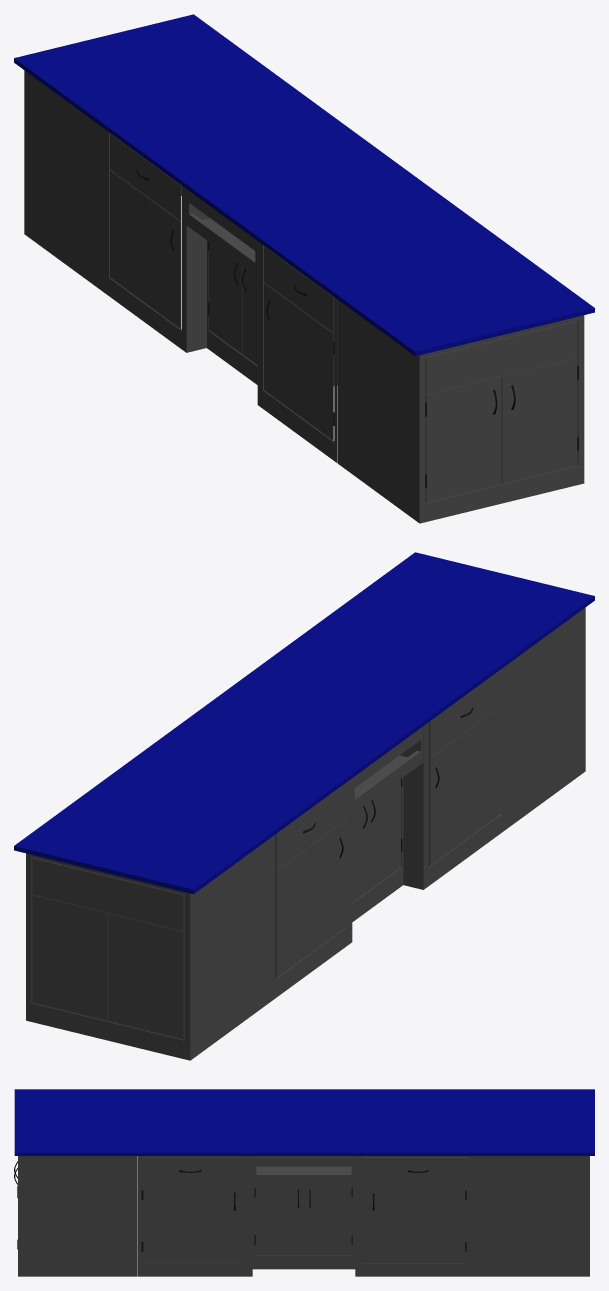
The model's file is Mod_Lab_ZhuoZi.FBX.
3 renders of one model, top to bottom at view 1: azimuth 30°, elevation 25°; view 2: azimuth 150°, elevation 25°; view 3: azimuth 270°, elevation 25°, orthographic. The views are drawn at different scales.
Parts seen in each view (by area): view 1: guiti; view 2: guiti; view 3: guiti, shouba.
Part boxes in pixels (left/top/right/bottom): guiti: left=14, top=14, right=594, bottom=523; guiti: left=14, top=552, right=594, bottom=1060; guiti: left=14, top=1089, right=594, bottom=1276; shouba: left=14, top=1161, right=466, bottom=1251.
Size of the model in its own units: 46.83 by 43.66 by 181.
